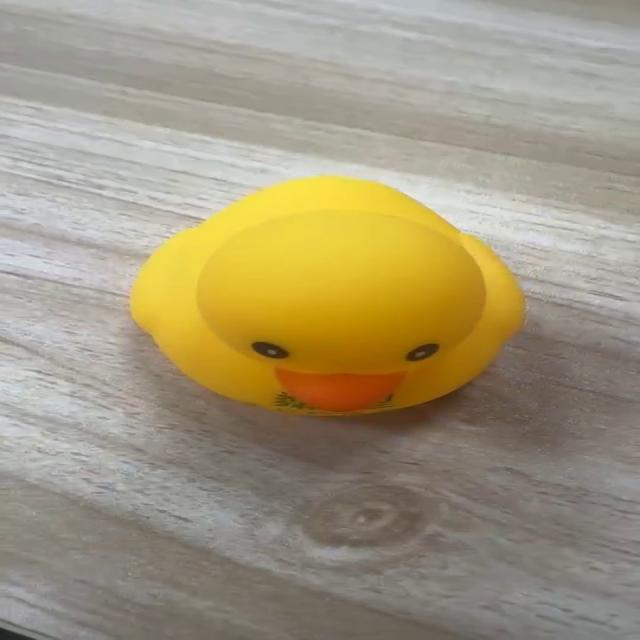yellow_duck: (127, 173, 527, 418)
